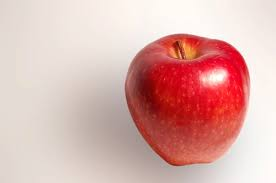apple: (123, 32, 254, 168)
